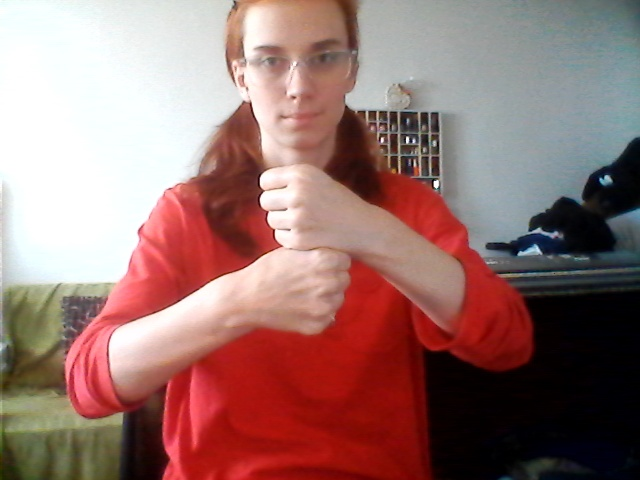g: (243, 164, 363, 348)
